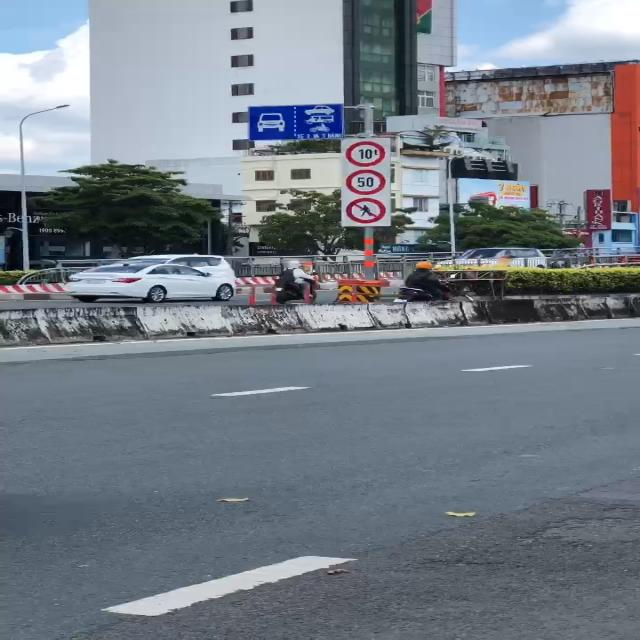Bien bao cam nguoi di bo: (341, 195, 396, 228)
Bien bao toc do toi da cho phep: (342, 167, 388, 195)
